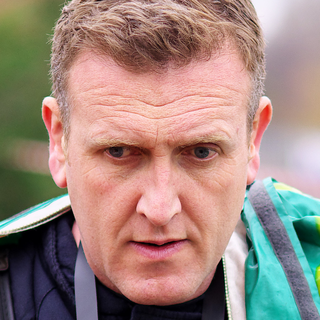eye: (177, 140, 226, 165), (94, 141, 146, 164)
